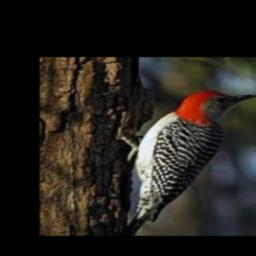Woodpecker: (122, 90, 256, 236)
